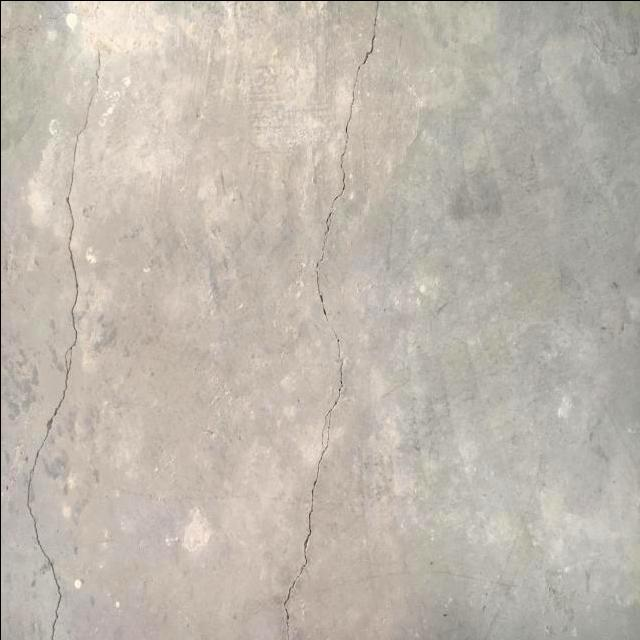SurfaceCrack: (241, 0, 411, 640), (0, 2, 140, 639)
